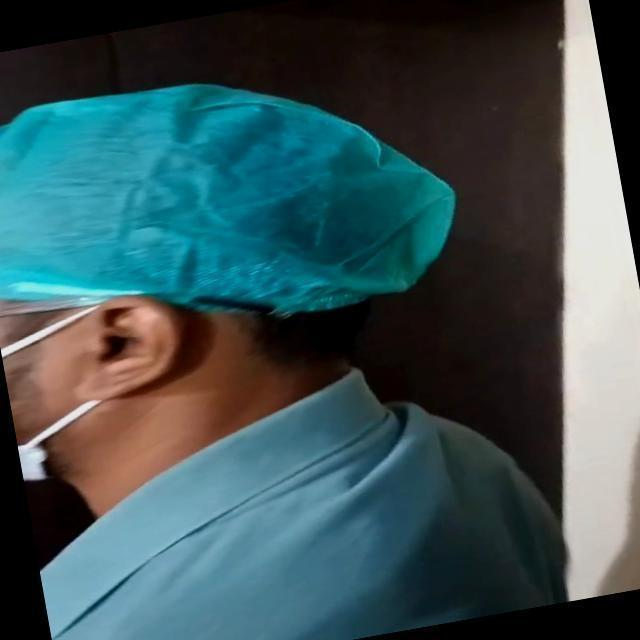gloves: (0, 78, 468, 344)
